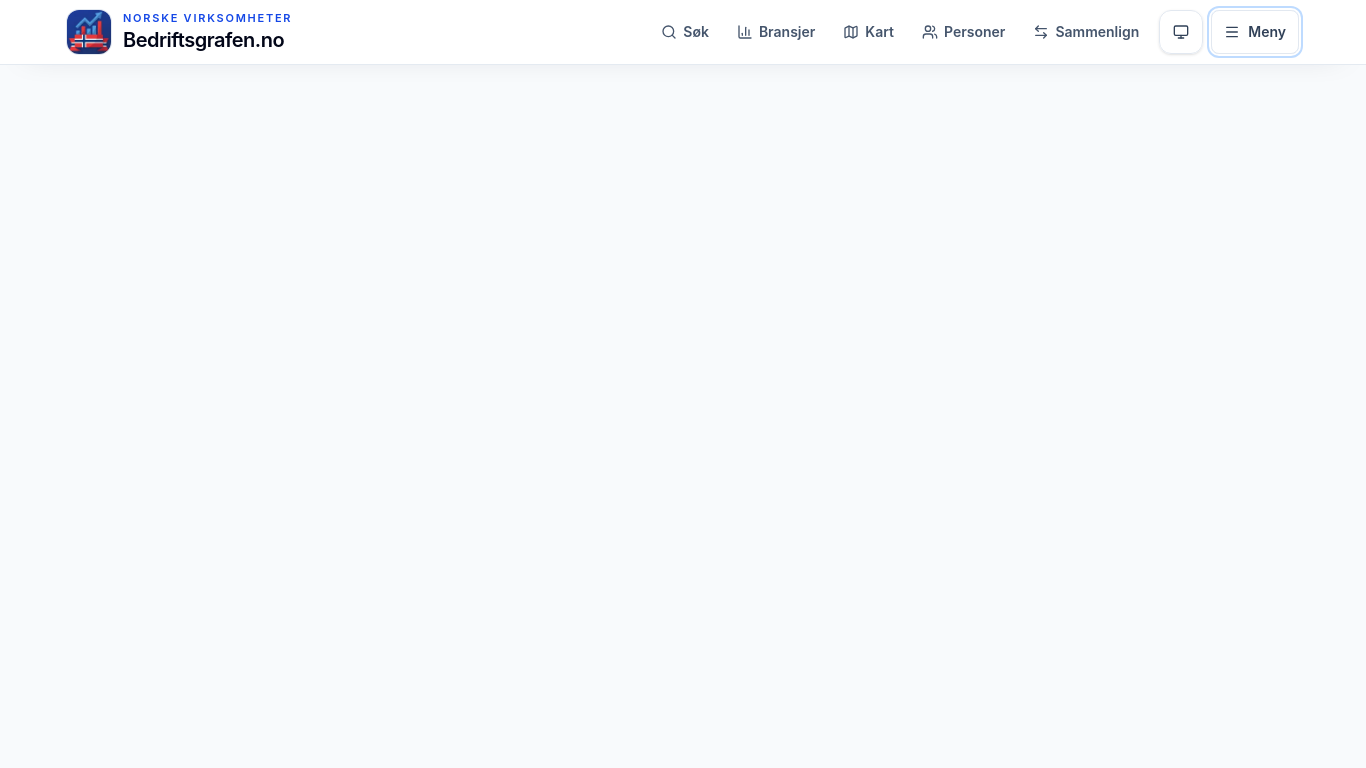
Test: Header › closes the quick menu with Escape and restores focus to the menu button
Click the button with aria-label "Åpne meny" at (1255, 32), box [1211,10,1299,54]
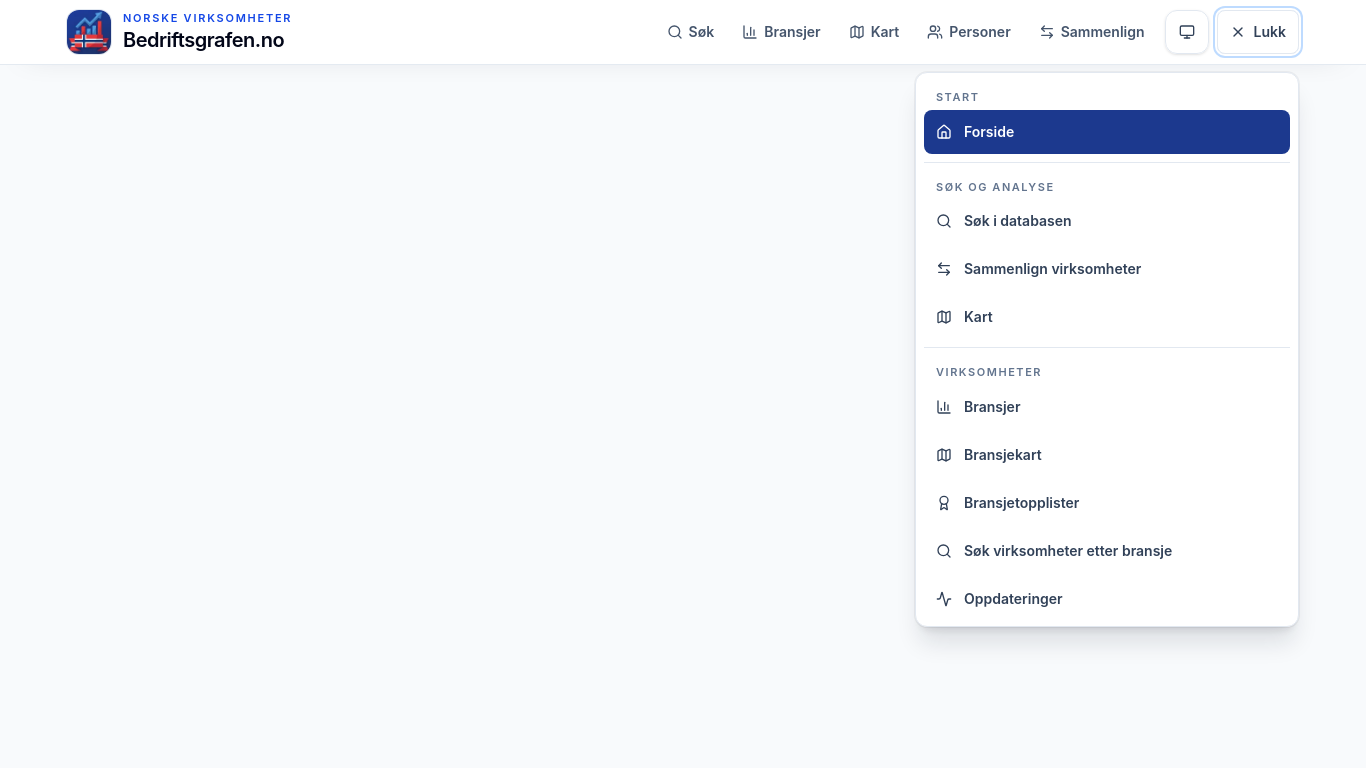
expect the navigation bar named "Hurtigmeny" is shown: met, box [916,73,1298,626]
Press Escape
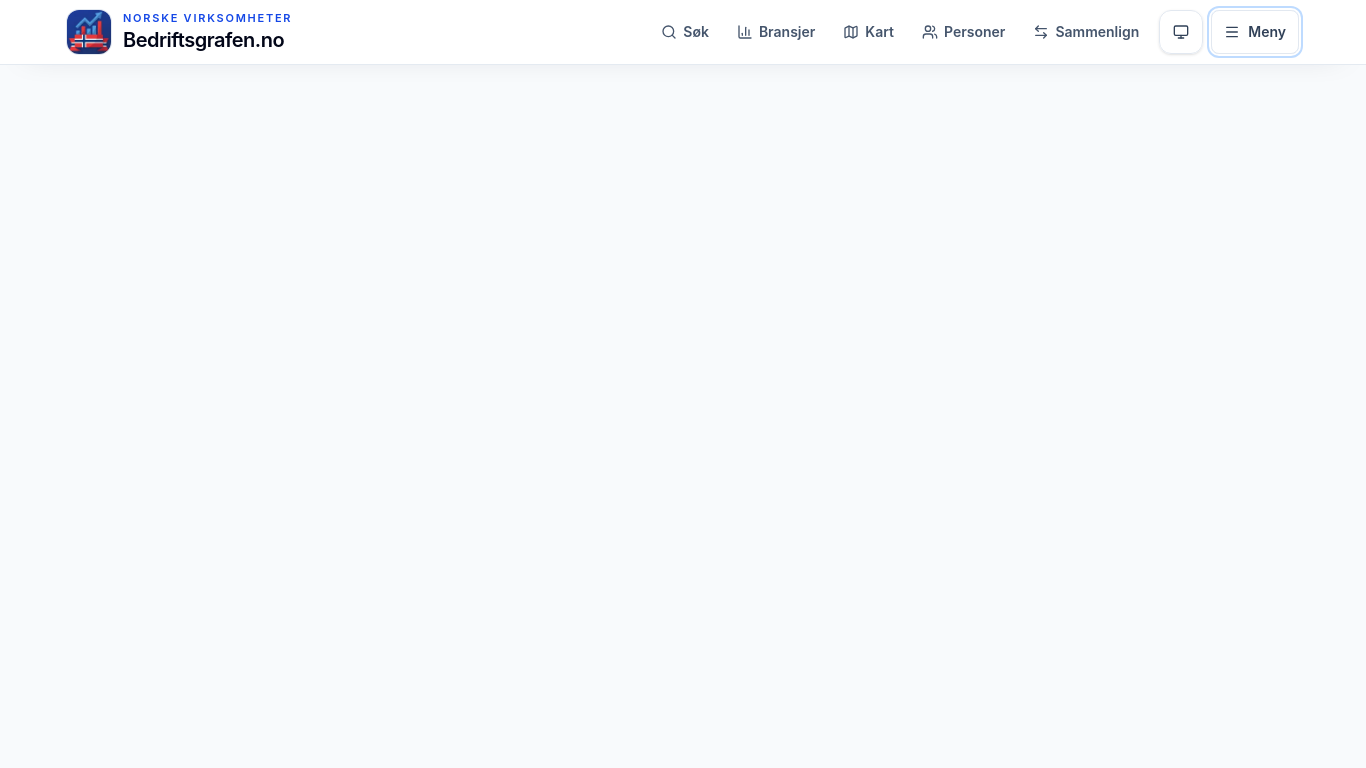
expect the navigation bar "Hurtigmeny" is gone: met
expect the button with aria-label "Åpne meny" is collapsed: met, box [1211,10,1299,54]
